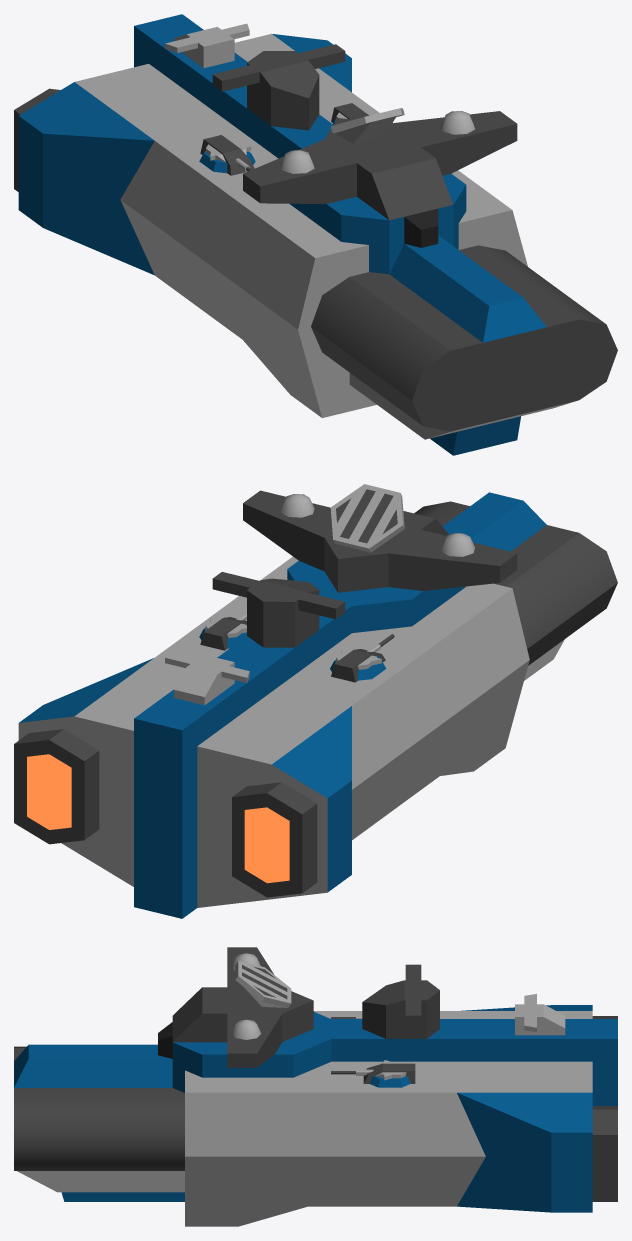
The model's file is SpaceshipBasilisk (1).fbx.
3 renders of one model, top to bottom at view 1: azimuth 30°, elevation 25°; view 2: azimuth 150°, elevation 25°; view 3: azimuth 270°, elevation 25°, orthographic. The views are drawn at different scales.
Visible parts, largest first — view 1: SpaceshipBasilisk; view 2: SpaceshipBasilisk; view 3: SpaceshipBasilisk.
Part boxes in pixels (x1,y1,x2,y2): SpaceshipBasilisk: (14,14,617,455); SpaceshipBasilisk: (14,484,617,918); SpaceshipBasilisk: (14,947,617,1226).
Bounding box in the file's own units: 480 × 387 × 960.
